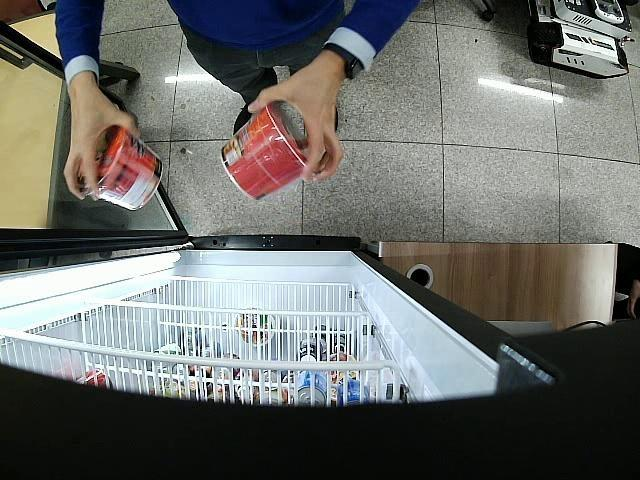01_ShinRamen_L: (222, 104, 306, 200), (76, 124, 164, 210)
